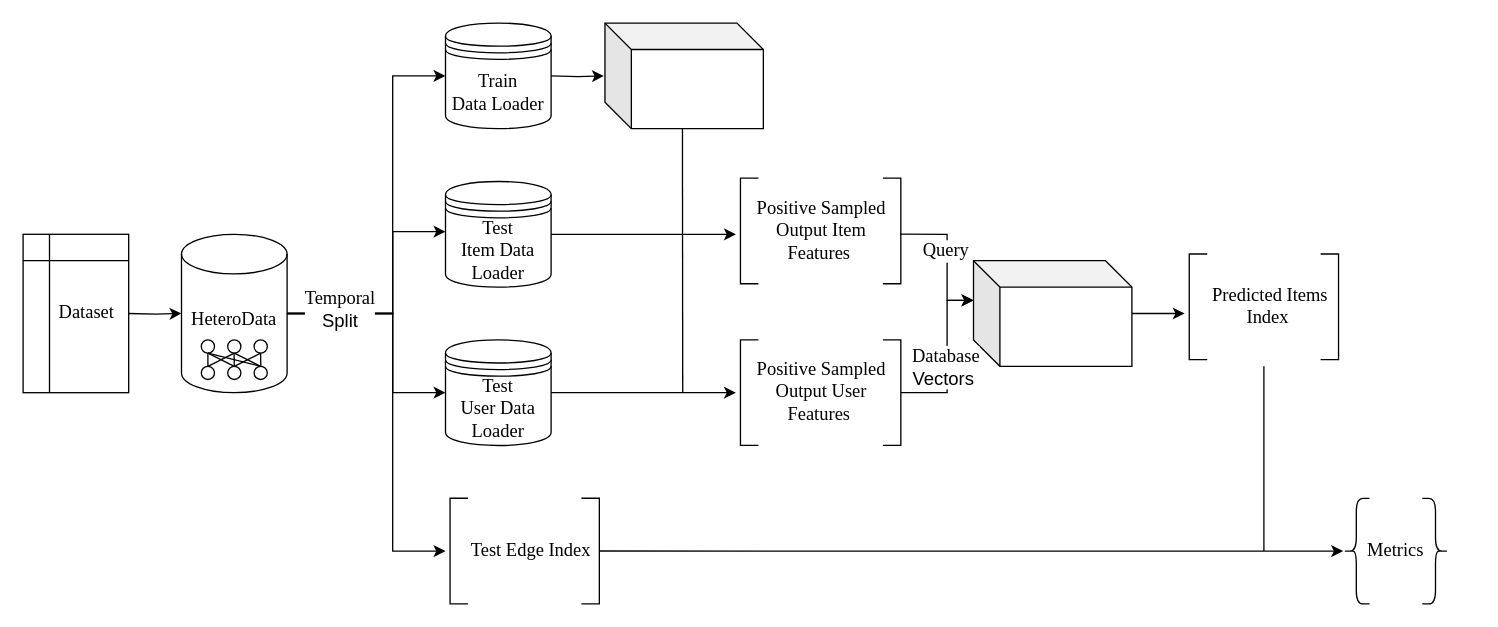
Image size: 1498x627. Some labels were removed from this diagram. Each missing label, with the centre of its shape:
"k-NN MIPS Index" goes at [1052,312].
"Trained Graph Convolutional Operator" goes at [683,75].
